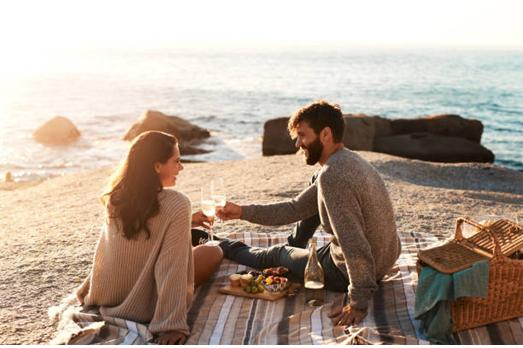alcohol: (301, 237, 326, 307), (209, 176, 231, 239), (198, 183, 220, 246)
